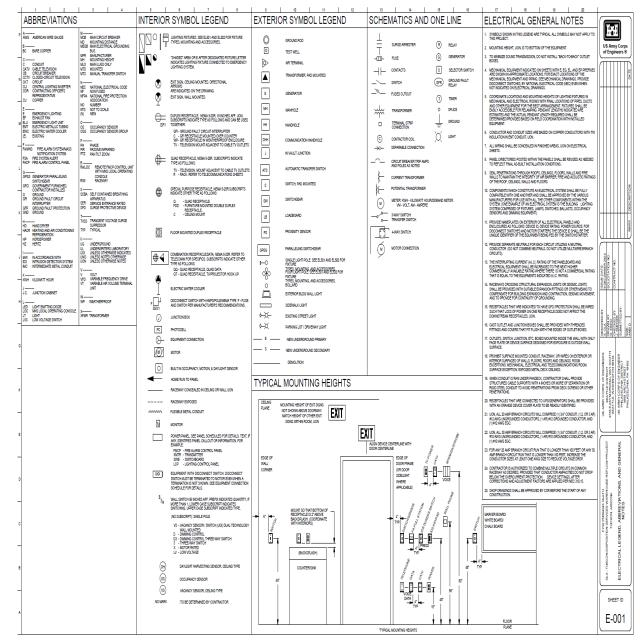Emergency Light: (139, 29, 169, 74)
